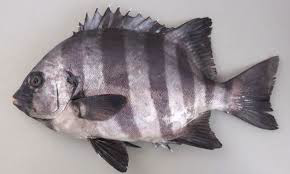azi: (11, 8, 278, 169)
